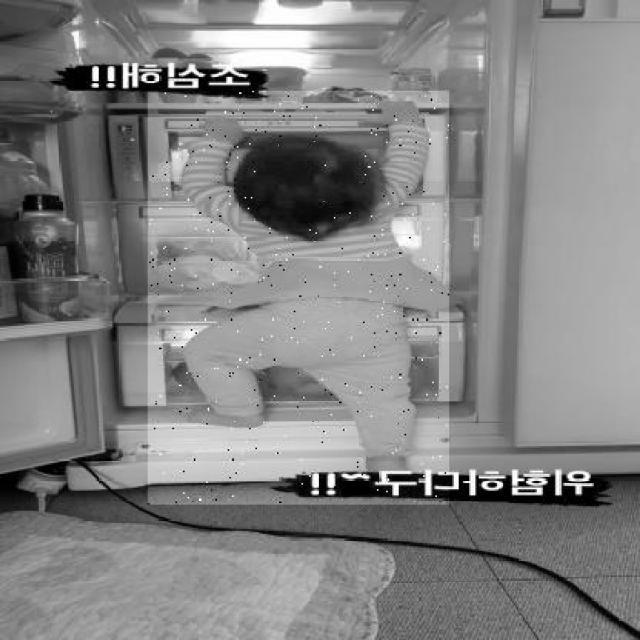child: (147, 91, 449, 505)
